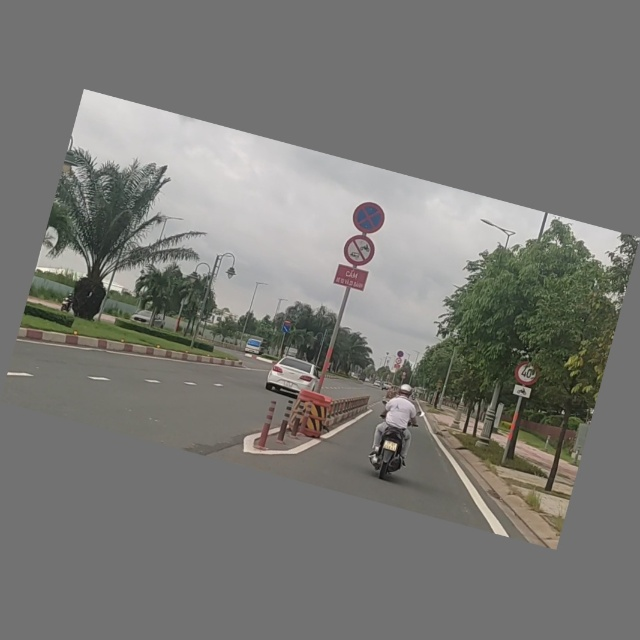P.111: (337, 229, 379, 273)
P.127*40: (513, 358, 543, 389)
P.130: (348, 197, 391, 240)
S.505a*Xe may: (508, 381, 534, 402)
